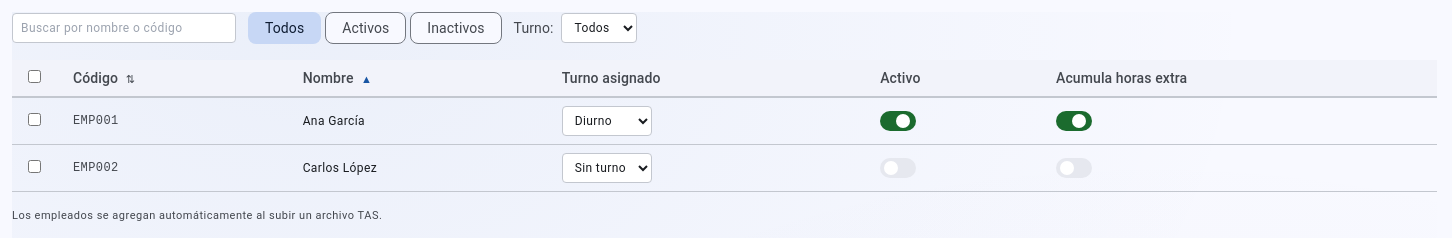
Scenario: EmployeesTab filtering › filters by search text (name)
The width and height of the screenshot is (1452, 238).
expect the text "EMP001" is shown: met, box [57,97,287,144]
Type "ana" into the field named "buscar empleado" at [124, 28], box [12,13,236,43]
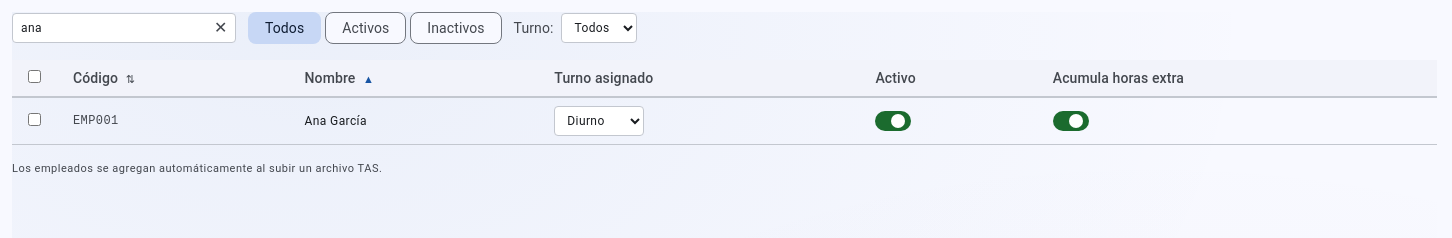
expect the text "Ana García" is shown: met, box [288,97,538,144]
expect the text "Carlos López" is gone: met
